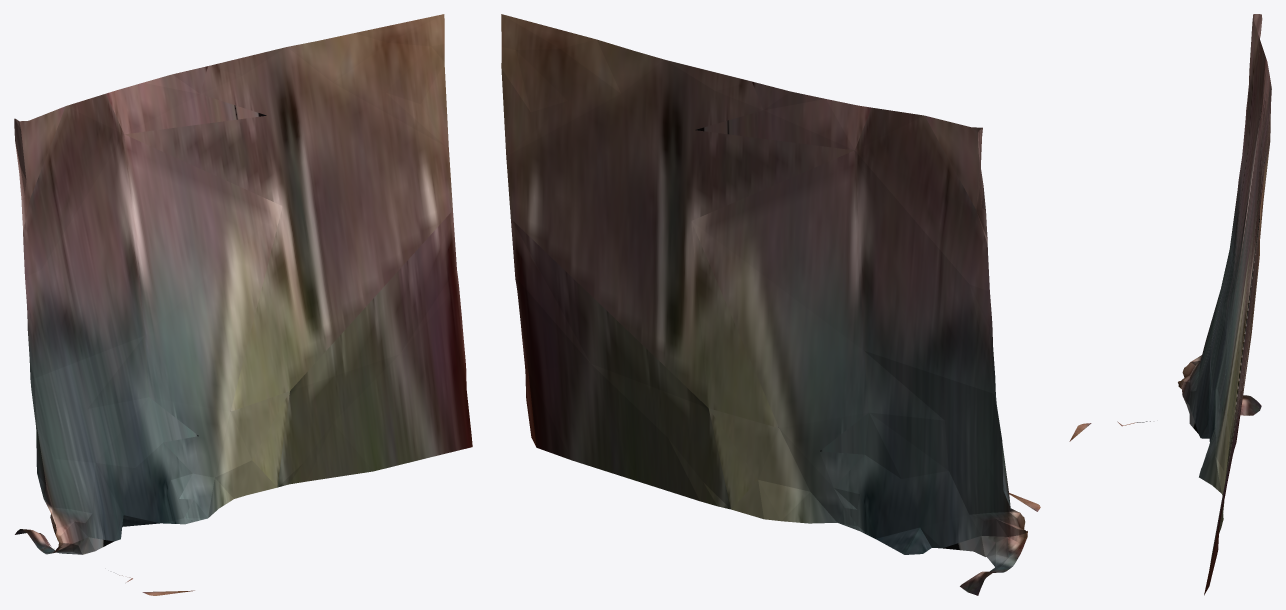
File: tile_10_15.obj
The picture shows the model from 3 angles, left to right: view 1: azimuth 30°, elevation 25°; view 2: azimuth 150°, elevation 25°; view 3: azimuth 270°, elevation 25°; orthographic projection. The views are drawn at different scales.
Parts seen in each view (by area): view 1: texture_0; view 2: texture_0; view 3: texture_0.
Part boxes in pixels (<box>): texture_0: <box>14,14,472,595</box>; texture_0: <box>501,14,1040,595</box>; texture_0: <box>1069,14,1271,595</box>.
Size of the model in its own units: 13.88 by 12.92 by 6.05.
Materials: 1 (1 with a texture image).
